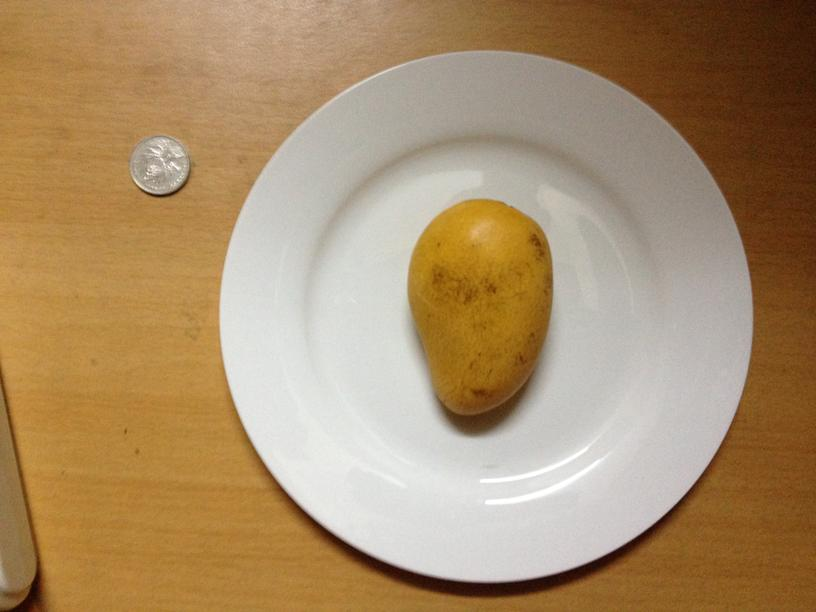coin: (130, 136, 189, 195)
mango: (409, 199, 553, 418)
